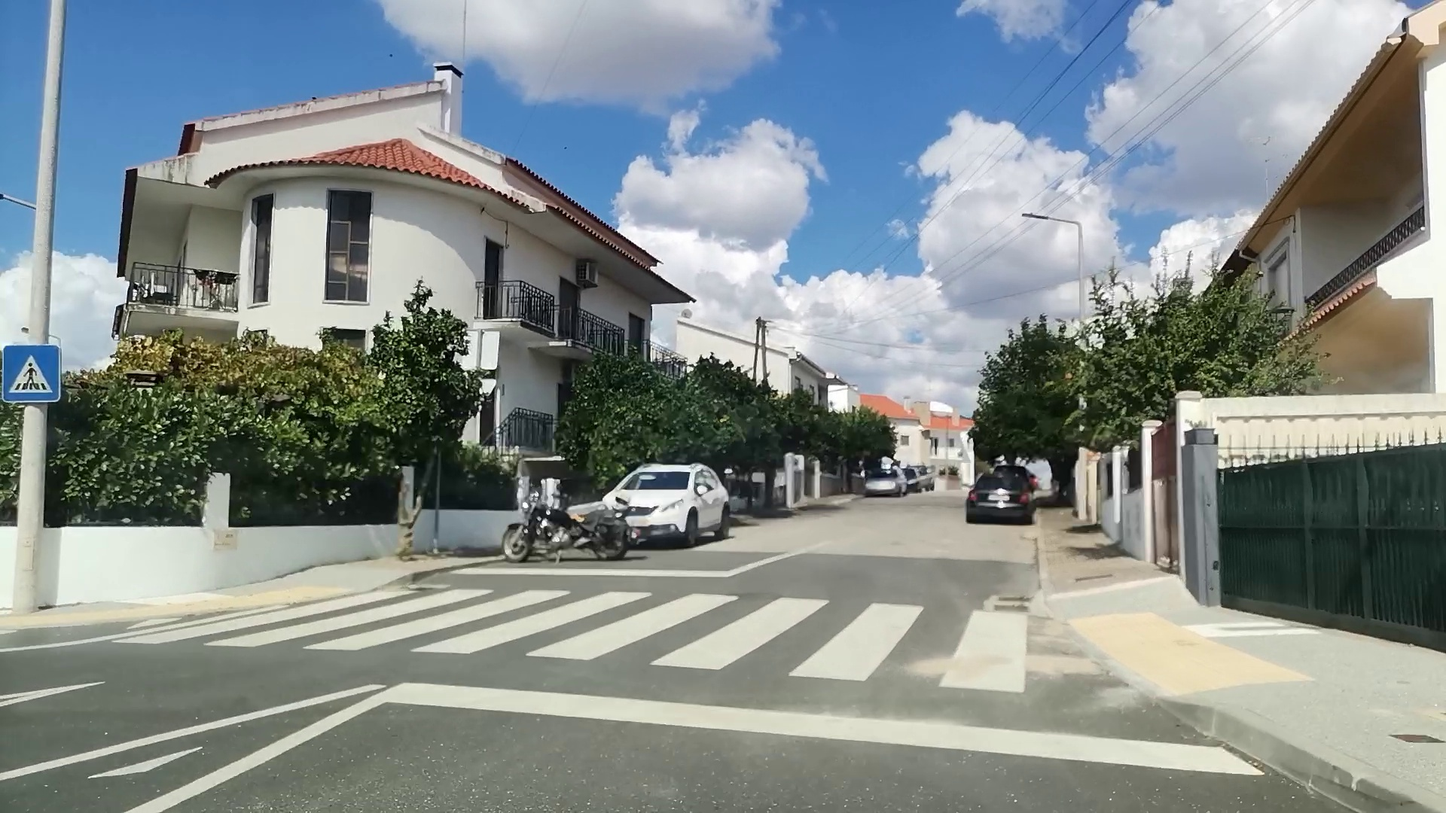Stairs: (104, 588, 1046, 696)
